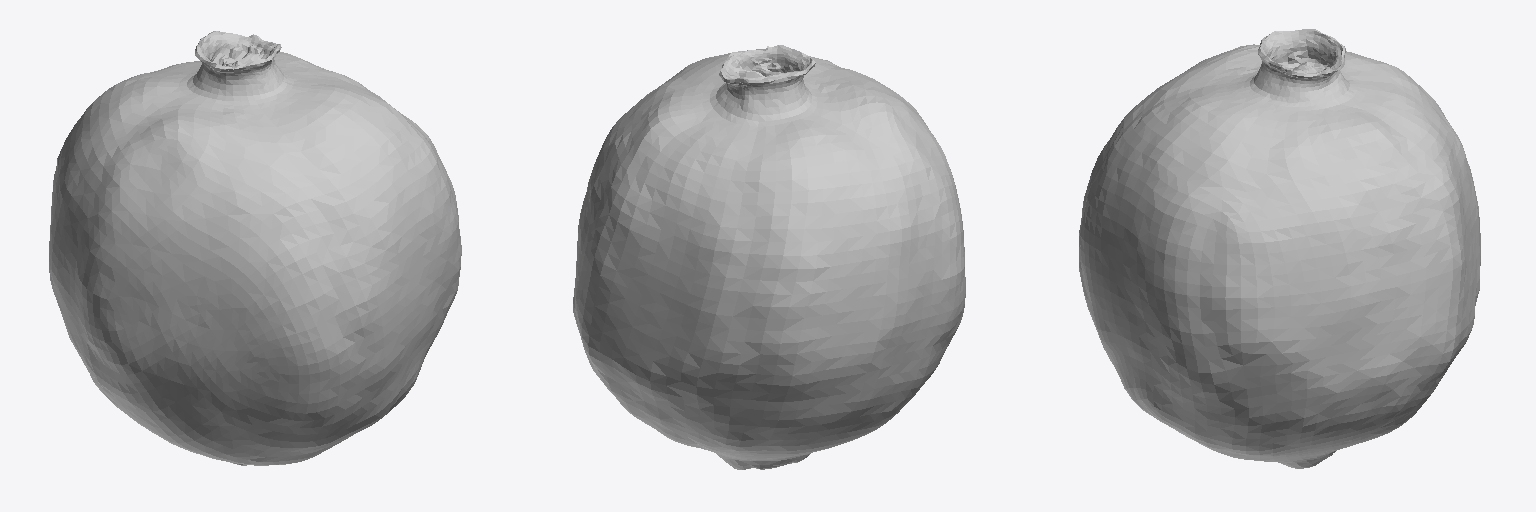
File: TexturesCom_Pomegranate_lp.OBJ
3 renders of one model, left to right at view 1: azimuth 30°, elevation 25°; view 2: azimuth 150°, elevation 25°; view 3: azimuth 270°, elevation 25°, orthographic.
Parts seen in each view (by area): view 1: 10002_pomegranate_lp; view 2: 10002_pomegranate_lp; view 3: 10002_pomegranate_lp.
Part boxes in pixels (bbox=[...]): 10002_pomegranate_lp: bbox=[49, 31, 461, 465]; 10002_pomegranate_lp: bbox=[573, 45, 965, 469]; 10002_pomegranate_lp: bbox=[1079, 29, 1480, 468].
Size of the model in its own units: 8 by 8.82 by 7.79.